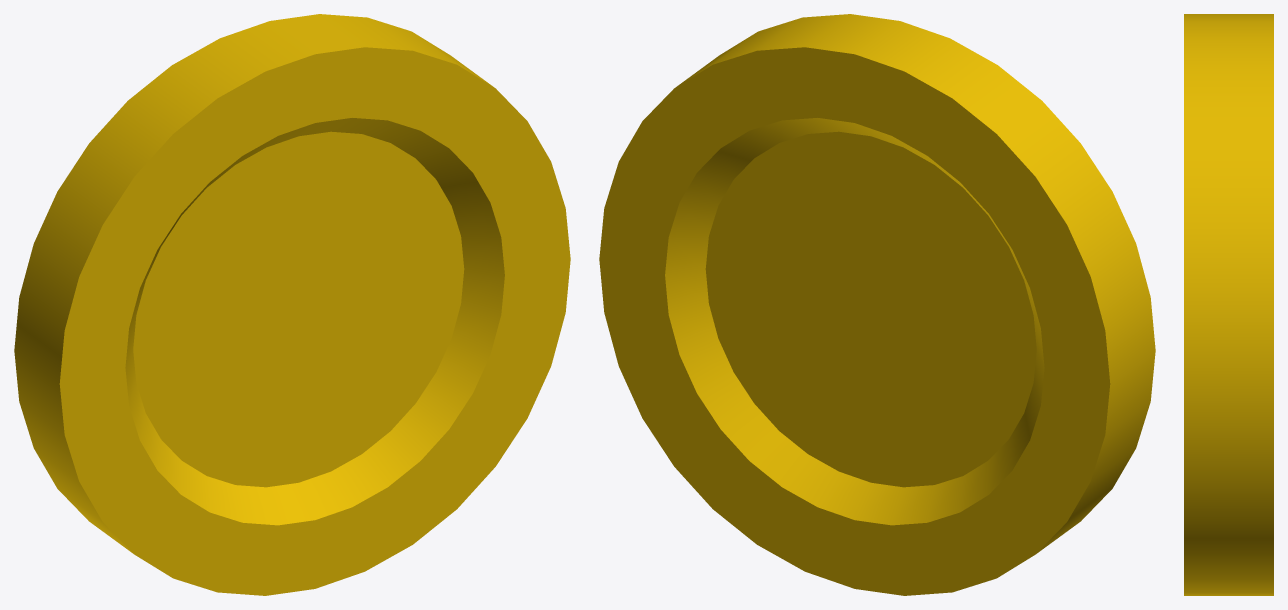
Rendered from Coin.Unity.Game.fbx.
3 renders of one model, left to right at view 1: azimuth 30°, elevation 25°; view 2: azimuth 150°, elevation 25°; view 3: azimuth 270°, elevation 25°, orthographic.
Visible parts, largest first — view 1: Cylinder; view 2: Cylinder; view 3: Cylinder.
Part boxes in pixels (<box>): Cylinder: <box>14,14,570,595</box>; Cylinder: <box>599,14,1155,595</box>; Cylinder: <box>1184,14,1273,595</box>.
Size of the model in its own units: 200 by 200 by 30.79.
